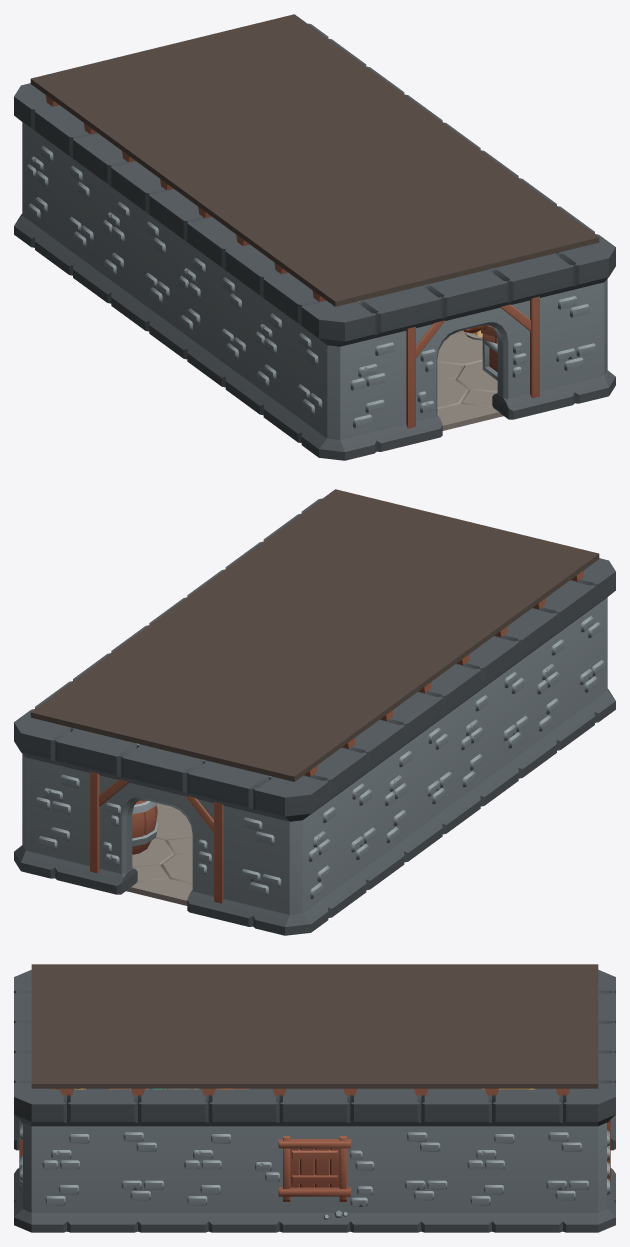
File: coridor3.glb
3 views of the same model, one above another, from view 1: azimuth 30°, elevation 25°; view 2: azimuth 150°, elevation 25°; view 3: azimuth 270°, elevation 25° (orthographic). The views are drawn at different scales.
Visible parts, largest first — view 1: wall_corner.002, wall_doorway_scaffold.001, wall.001, wall_shelves, wall, ceiling_tile.002, wall_corner.003, ceiling_tile.001, ceiling_tile.007, ceiling_tile.006, ceiling_tile.003, ceiling_tile.005 (+5 smaller); view 2: wall_corner.001, wall_doorway_scaffold, wall, wall.001, wall_shelves, ceiling_tile.006, wall_corner.004, ceiling_tile.004, ceiling_tile.003, ceiling_tile.002, ceiling_tile.007, ceiling_tile (+5 smaller); view 3: wall.003, wall_shelves.001, wall_window_closed, wall_corner.004, wall_corner.003, ceiling_tile.001, ceiling_tile.004, ceiling_tile, ceiling_tile.005, ceiling_tile.002, ceiling_tile.006, ceiling_tile.003 (+5 smaller).
Boxes of the visible parts, x1,y1,x2,y2 form: wall_corner.002: (280,285,410,460); wall_doorway_scaffold.001: (393,261,542,444); wall.001: (128,174,229,373); wall_shelves: (204,230,305,429); wall: (52,118,152,317); ceiling_tile.002: (259,214,467,306); wall_corner.003: (525,219,615,412); ceiling_tile.001: (391,181,599,274); ceiling_tile.007: (106,102,314,194); ceiling_tile.006: (30,46,238,139); ceiling_tile.003: (183,158,390,250); ceiling_tile.005: (239,70,446,157); wall_corner.001: (219,760,349,935); wall_doorway_scaffold: (87,736,236,919); wall: (324,705,425,904); wall.001: (400,649,501,848); wall_shelves: (477,593,577,792); ceiling_tile.006: (162,689,370,781); wall_corner.004: (14,694,104,887); ceiling_tile.004: (30,656,238,749); ceiling_tile.003: (315,577,523,669); ceiling_tile.002: (391,521,599,614); ceiling_tile.007: (239,633,446,725); ceiling_tile: (183,545,390,632); wall.003: (102,1089,244,1232); wall_shelves.001: (385,1089,527,1232); wall_window_closed: (244,1089,385,1232); wall_corner.004: (527,1067,615,1232); wall_corner.003: (14,1067,102,1232); ceiling_tile.001: (31,1024,173,1095); ceiling_tile.004: (456,1024,598,1095); ceiling_tile: (173,1024,314,1095); ceiling_tile.005: (315,1024,456,1095); ceiling_tile.002: (31,964,173,1023); ceiling_tile.006: (456,964,598,1023); ceiling_tile.003: (173,964,314,1023).
Size of the model in its own units: 9 by 4.5 by 17.
20 materials, 20 textured.
